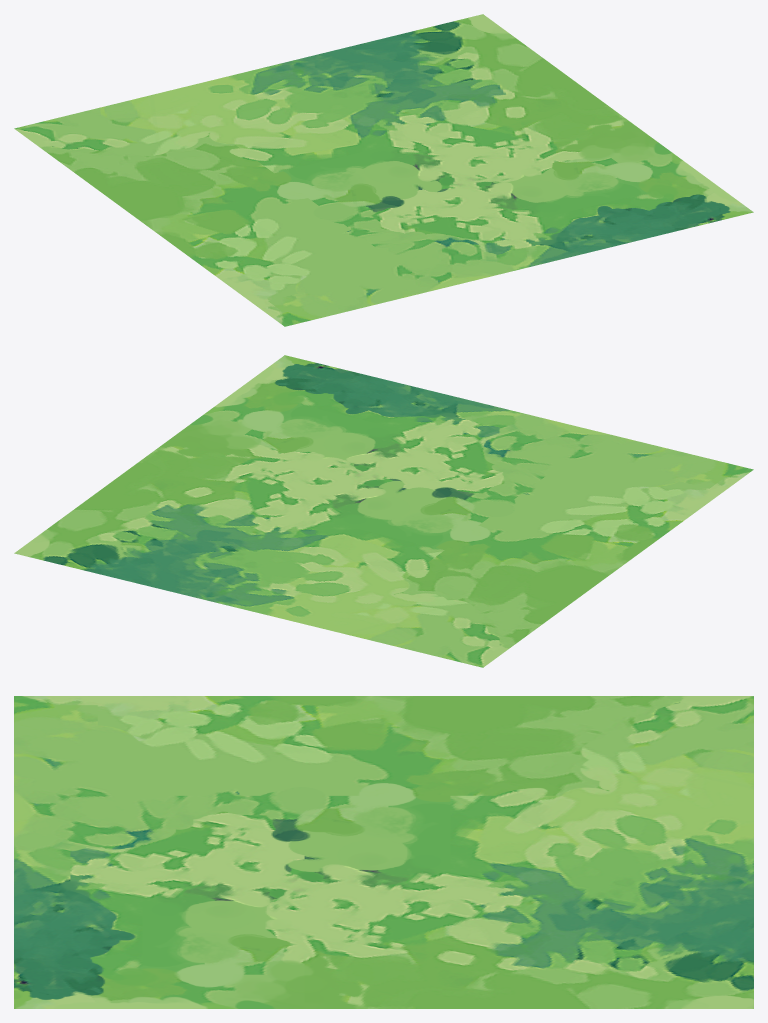
File: env_tiles_mesh_01.fbx
The picture shows the model from 3 angles, top to bottom: view 1: azimuth 30°, elevation 25°; view 2: azimuth 150°, elevation 25°; view 3: azimuth 270°, elevation 25°; orthographic projection. The views are drawn at different scales.
Visible parts, largest first — view 1: T1; view 2: T1; view 3: T1.
Part boxes in pixels (x1,y1,x2,y2): T1: (14,14,753,326); T1: (14,355,753,667); T1: (14,696,753,1008).
Bounding box in the file's own units: 1000 × 0 × 1000.
